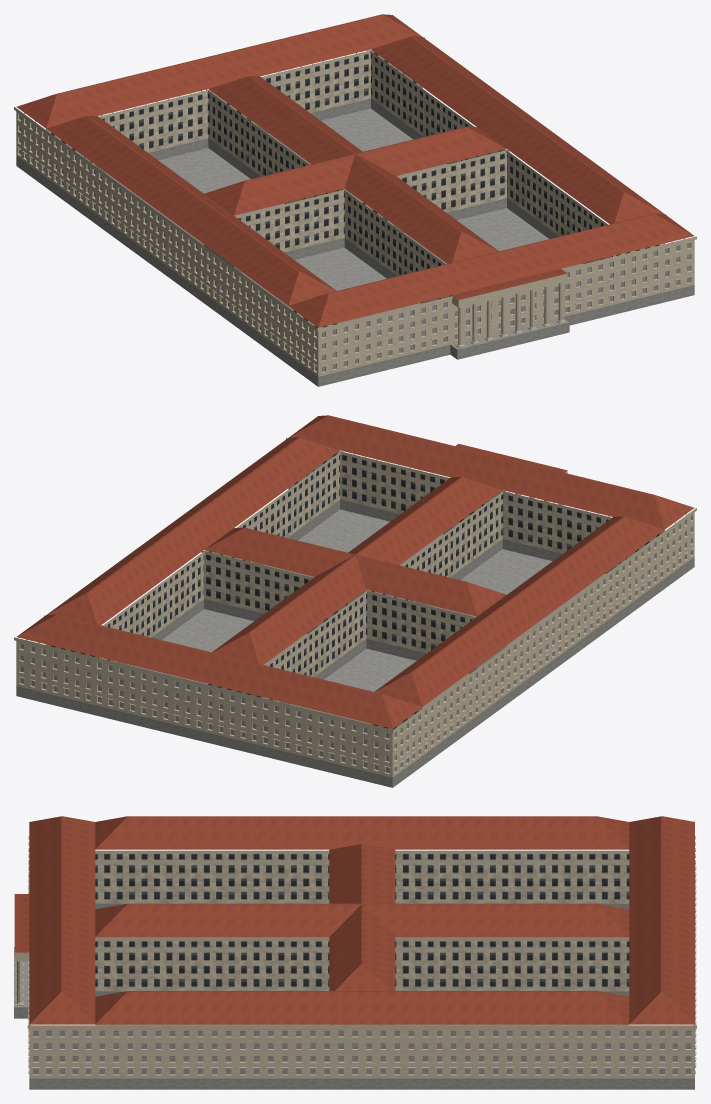
File: doj_rfk.glb
The picture shows the model from 3 angles, top to bottom: view 1: azimuth 30°, elevation 25°; view 2: azimuth 150°, elevation 25°; view 3: azimuth 270°, elevation 25°; orthographic projection. The views are drawn at different scales.
Visible parts, largest first — view 1: doj_rfk; view 2: doj_rfk; view 3: doj_rfk.
Part boxes in pixels (left/top/right/bottom): doj_rfk: left=14, top=14, right=696, bottom=386; doj_rfk: left=14, top=415, right=696, bottom=787; doj_rfk: left=14, top=816, right=696, bottom=1089.
Bounding box in the file's own units: 132 × 25.39 × 187.
4 materials, 4 textured.
